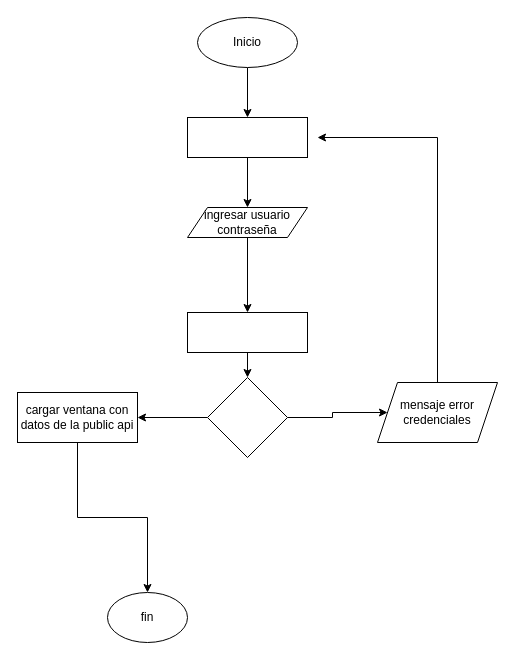
Some shapes in this 515 by 660 pixel diagram are drawn without their labels. The box of each missing label's shape, as (x1, y1, x2, y2) in pixels:
cargar ventana LogIn: (186, 116, 308, 158)
existe en DB?: (206, 376, 288, 458)
validar credenciales en DB: (186, 312, 308, 352)
